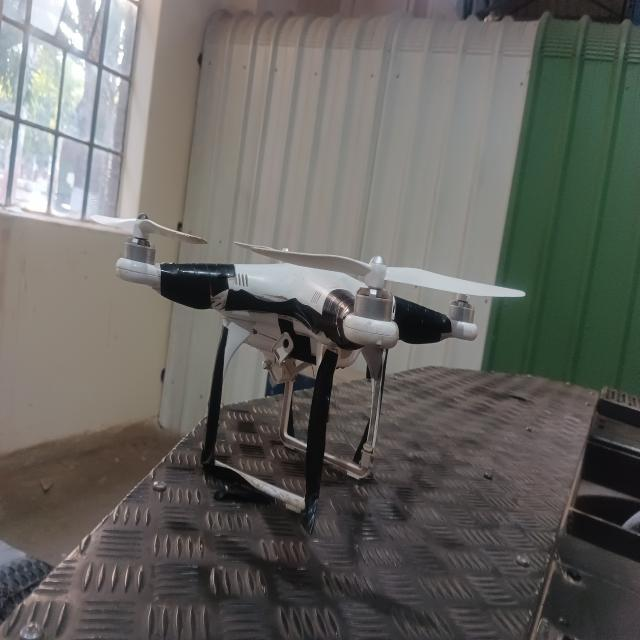drone: (85, 194, 550, 545)
